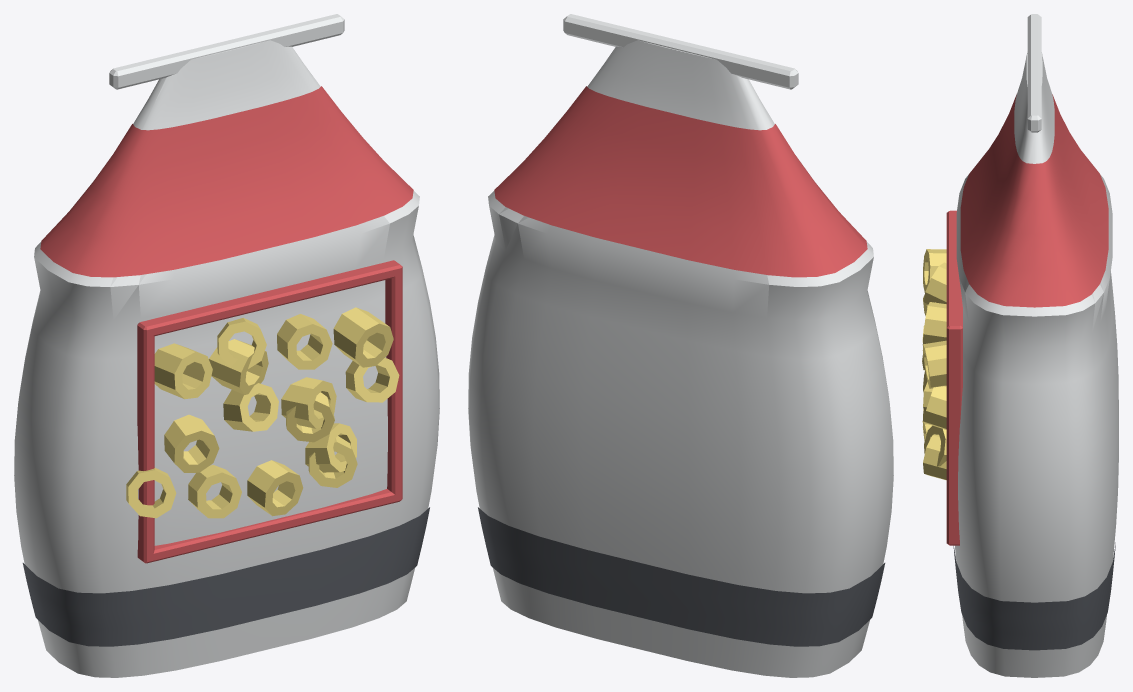
The model's file is fresh-produce-and-groceries-pasta-bag-ad4806b0__24422.glb.
3 views of the same model, side by side, from view 1: azimuth 30°, elevation 25°; view 2: azimuth 150°, elevation 25°; view 3: azimuth 270°, elevation 25° (orthographic). The views are drawn at different scales.
Visible parts, largest first — view 1: pasta-bag; view 2: pasta-bag; view 3: pasta-bag.
Part boxes in pixels (box(x1,y1,x2,y2)): pasta-bag: box(14, 14, 439, 677); pasta-bag: box(468, 14, 893, 677); pasta-bag: box(922, 14, 1118, 677).
Bounding box in the file's own units: 0.1801 × 0.252 × 0.0837.
